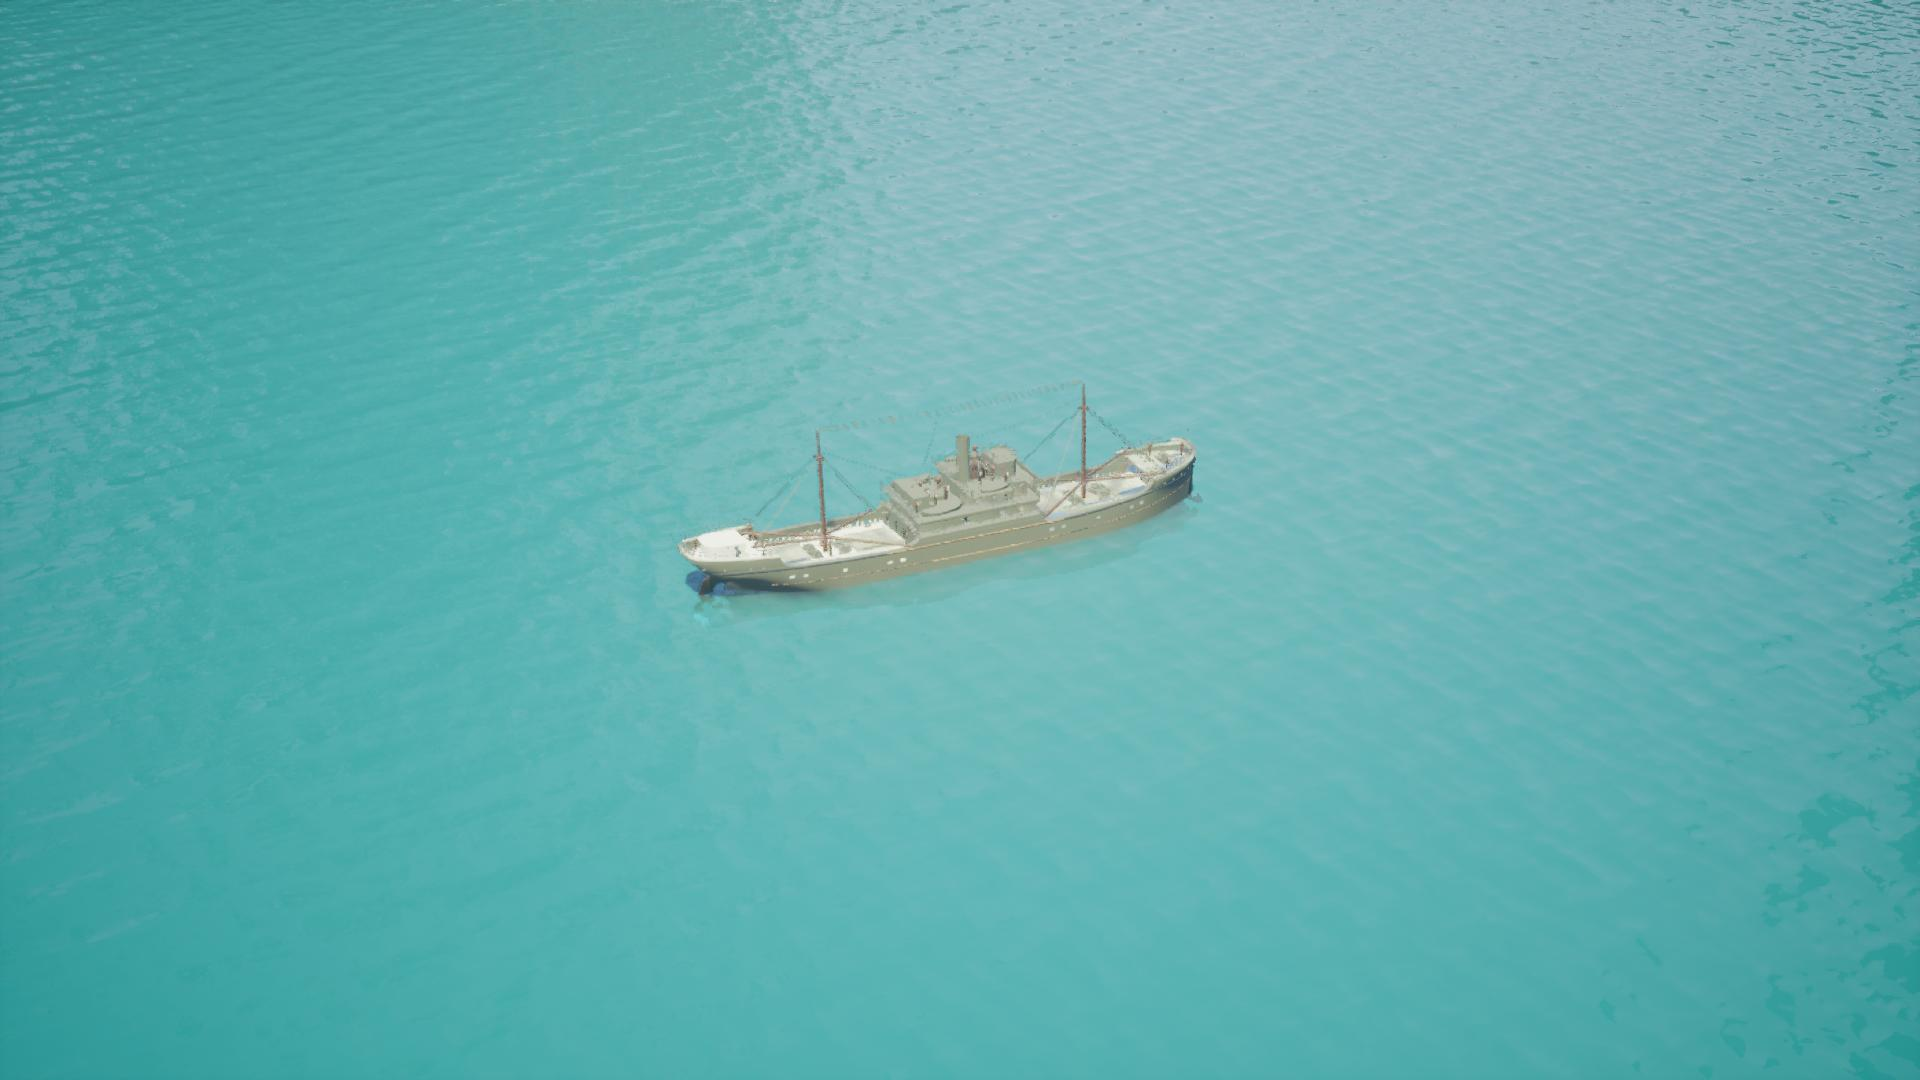Fishing Boat: (680, 397, 1197, 600)
